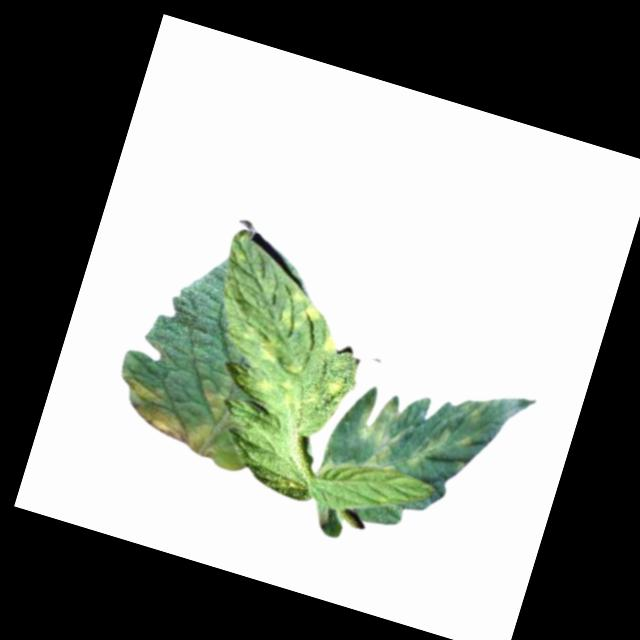Leaf_Mold: (346, 388, 413, 473), (124, 398, 216, 457), (276, 283, 328, 341), (119, 369, 169, 407), (198, 385, 237, 423), (255, 333, 285, 367), (323, 371, 348, 399), (255, 372, 279, 396), (322, 332, 340, 356)
